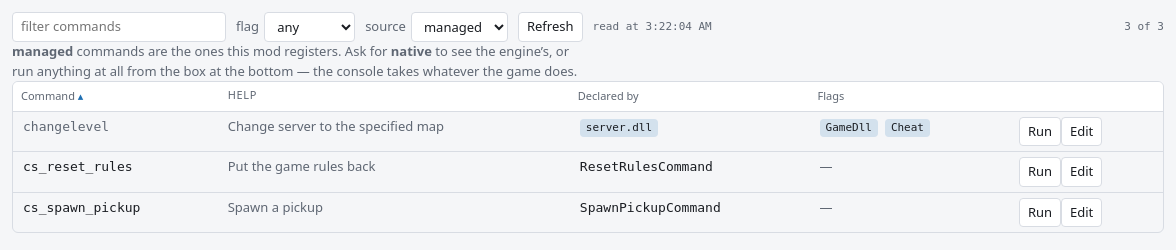
filtering by flag › finds the ones with no flags
Expected: the text "changelevel" is shown, [13, 111, 218, 152]
Select "(none)" in the dropdown labelled "flag": (310, 27) [264, 12, 355, 42]
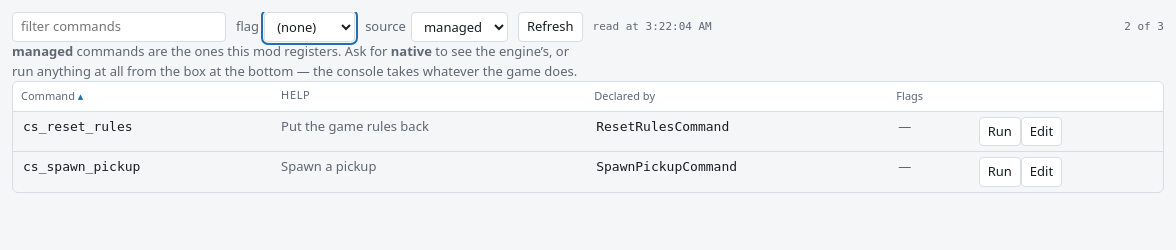
Expected: the text "cs_spawn_pickup" is shown, [13, 152, 271, 192]
Now the text "changelevel" is gone
